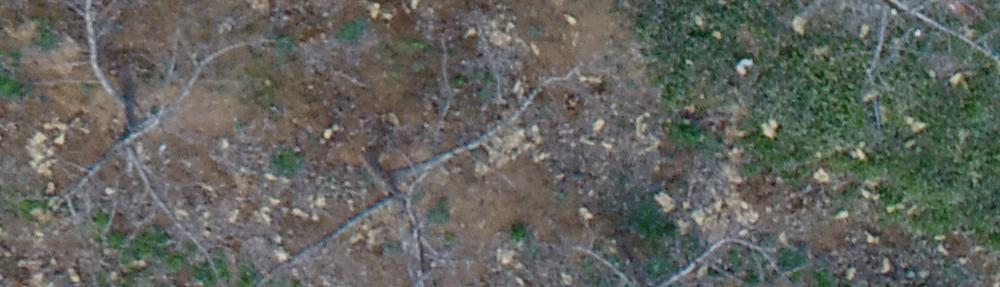apple: (294, 59, 566, 277), (54, 10, 272, 269)
